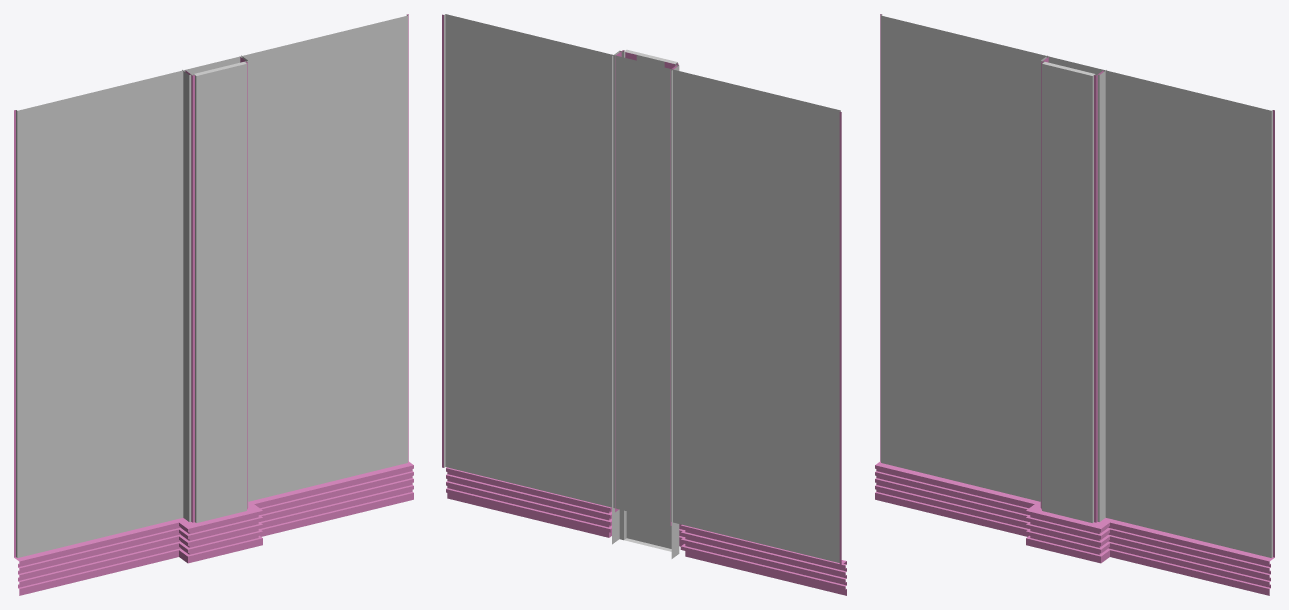
The model's file is Wall1UV.fbx.
3 views of the same model, side by side, from view 1: azimuth 30°, elevation 25°; view 2: azimuth 150°, elevation 25°; view 3: azimuth 330°, elevation 25° (orthographic).
Visible parts, largest first — view 1: Cube.008; view 2: Cube.008; view 3: Cube.008.
Boxes of the visible parts, x1,y1,x2,y2 form: Cube.008: [14, 14, 413, 595]; Cube.008: [442, 14, 846, 595]; Cube.008: [875, 14, 1274, 595].
Bounding box in the file's own units: 600 × 701 × 37.27.
